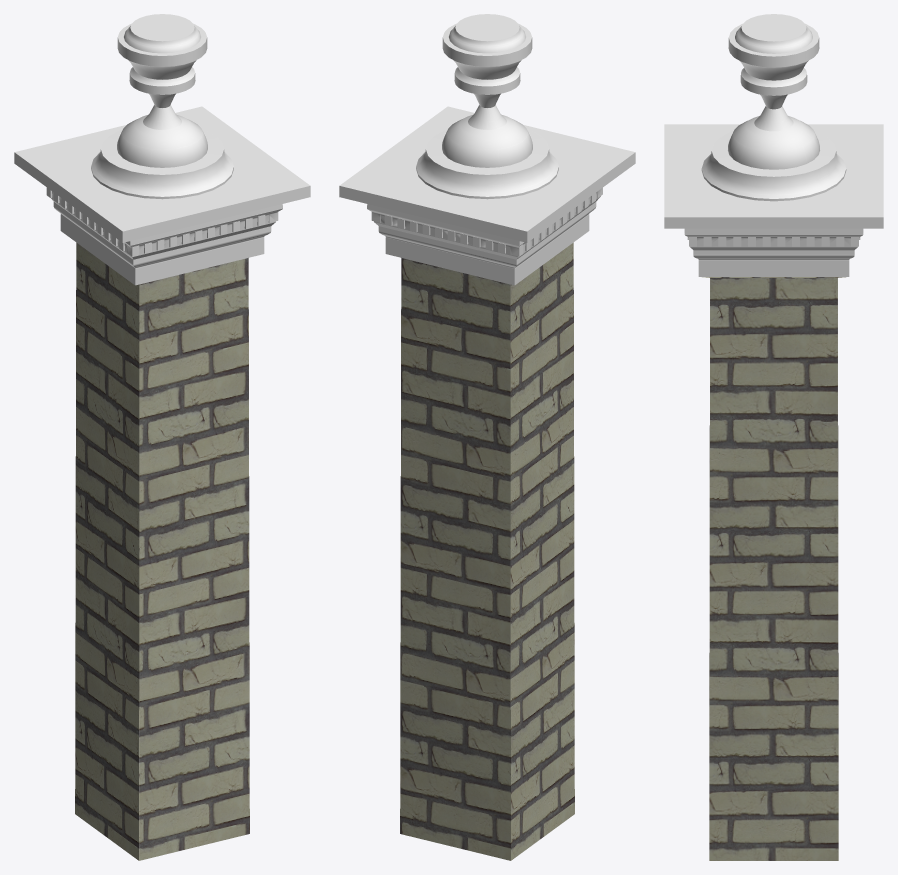
The model's file is PillarFancy.fbx.
3 views of the same model, side by side, from view 1: azimuth 30°, elevation 25°; view 2: azimuth 150°, elevation 25°; view 3: azimuth 270°, elevation 25° (orthographic).
Visible parts, largest first — view 1: Post; view 2: Post; view 3: Post.
Boxes of the visible parts, x1,y1,x2,y2 form: Post: (14,14,310,860); Post: (339,14,635,860); Post: (664,14,883,860).
Bounding box in the file's own units: 200 × 200 × 812.
1 material, 1 textured.
